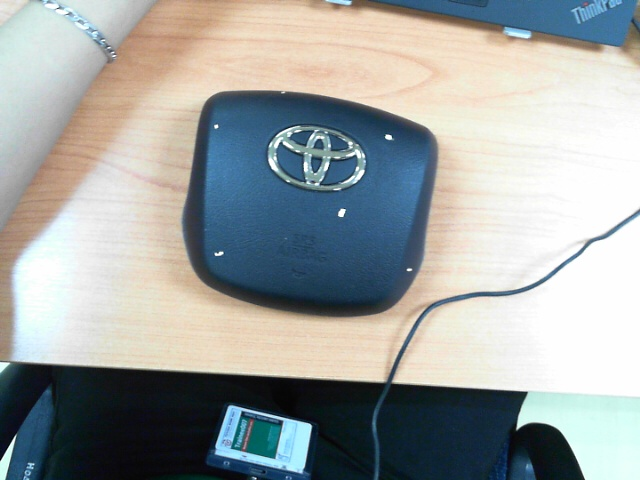Airbag: (337, 208, 346, 218), (384, 134, 394, 141), (214, 251, 224, 257), (406, 267, 414, 272), (214, 123, 219, 129), (281, 92, 286, 94)
